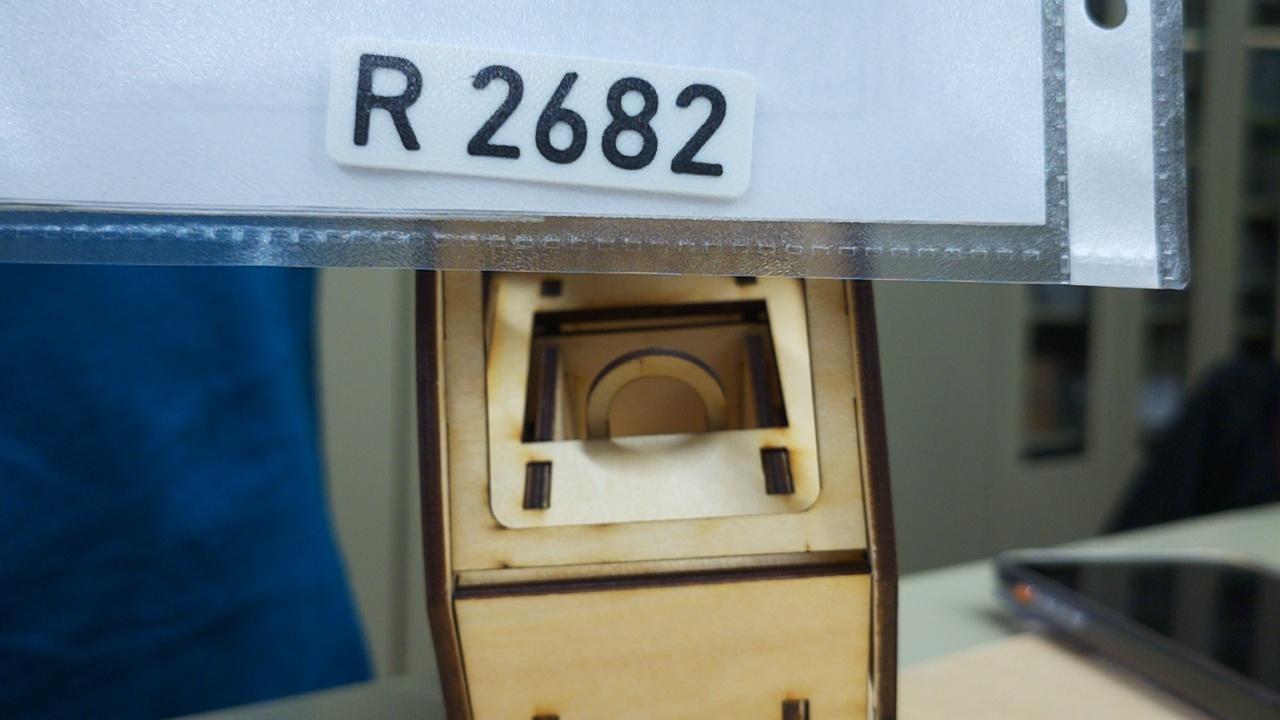license_plate: (323, 28, 764, 203)
